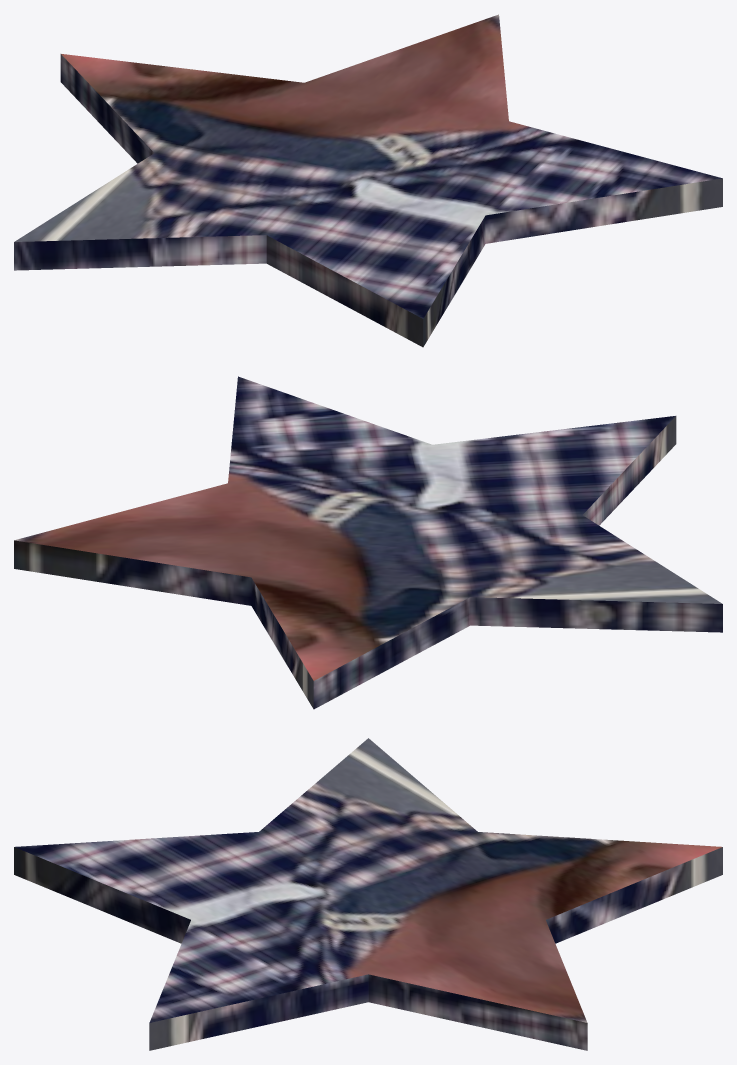
File: SimpleStar.obj
3 renders of one model, top to bottom at view 1: azimuth 30°, elevation 25°; view 2: azimuth 150°, elevation 25°; view 3: azimuth 270°, elevation 25°, orthographic. The views are drawn at different scales.
Parts seen in each view (by area): view 1: Star; view 2: Star; view 3: Star.
Boxes of the visible parts, bbox=[...] form: Star: bbox=[14, 14, 722, 347]; Star: bbox=[14, 376, 722, 709]; Star: bbox=[14, 738, 722, 1050].
Bounding box in the file's own units: 1.81 × 0.0825 × 1.9.
1 material, 1 textured.
